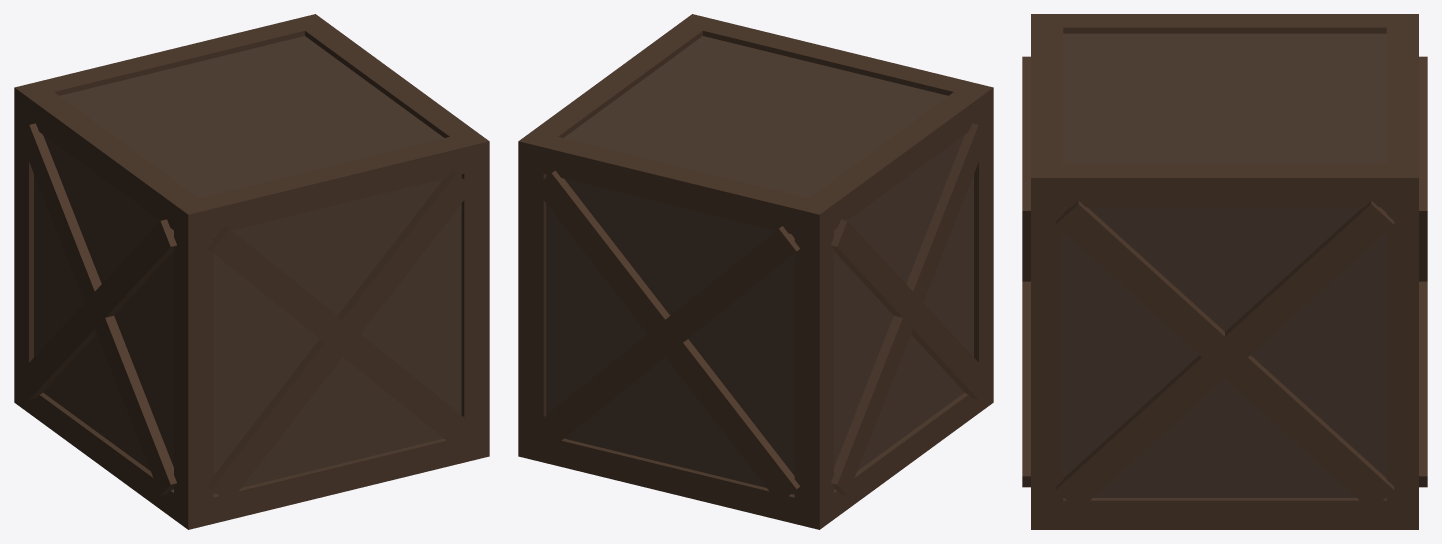
File: crate.glb
3 views of the same model, side by side, from view 1: azimuth 30°, elevation 25°; view 2: azimuth 150°, elevation 25°; view 3: azimuth 270°, elevation 25° (orthographic). The views are drawn at different scales.
Parts seen in each view (by area): view 1: crate; view 2: crate; view 3: crate.
Boxes of the visible parts, x1,y1,x2,y2 form: crate: (14,14,489,529); crate: (518,14,993,529); crate: (1022,14,1427,529).
Size of the model in its own units: 0.626 by 0.6 by 0.626.
